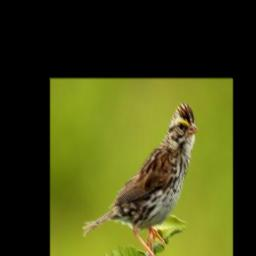Sparrow: (81, 98, 198, 256)
